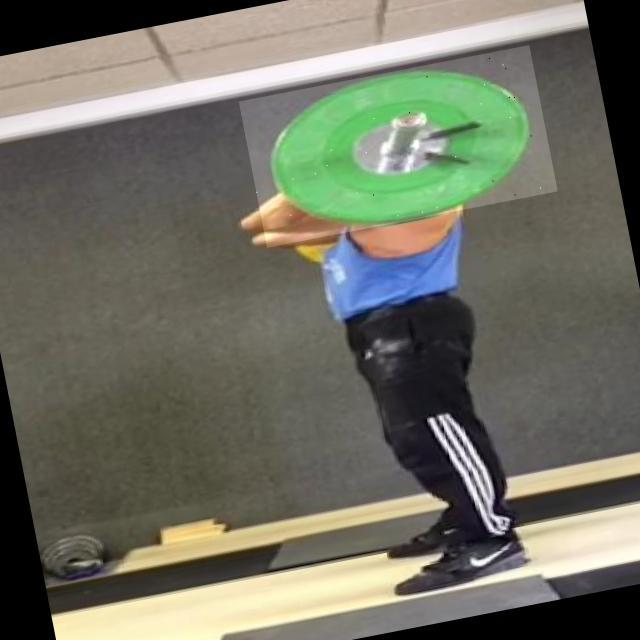barbell: (240, 46, 559, 249)
